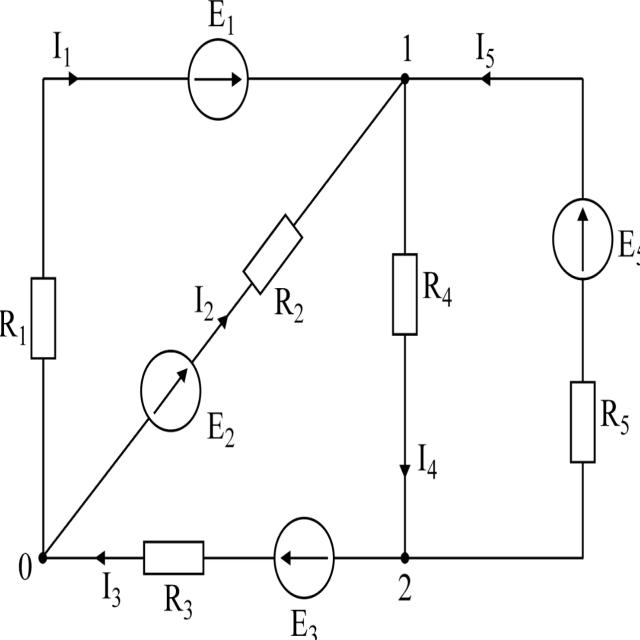net: (41, 70, 192, 86), (40, 72, 49, 283), (576, 72, 590, 202), (200, 550, 278, 565), (577, 272, 587, 387)
net_node: (246, 72, 589, 87), (333, 552, 589, 564), (400, 331, 412, 569), (398, 69, 412, 257)
res: (241, 211, 305, 295), (26, 274, 62, 363), (388, 249, 421, 341), (567, 378, 599, 468), (140, 537, 208, 578)
source: (134, 343, 206, 436), (185, 34, 252, 125), (273, 513, 336, 604), (552, 197, 615, 282)
